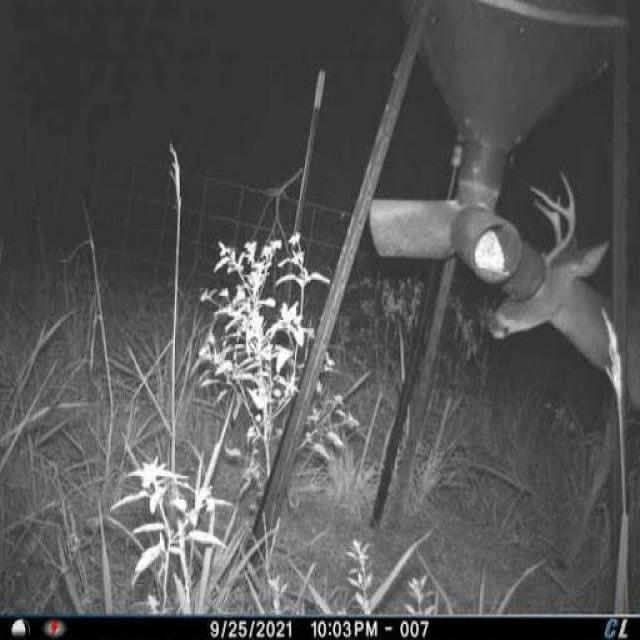deer: (480, 162, 640, 574)
